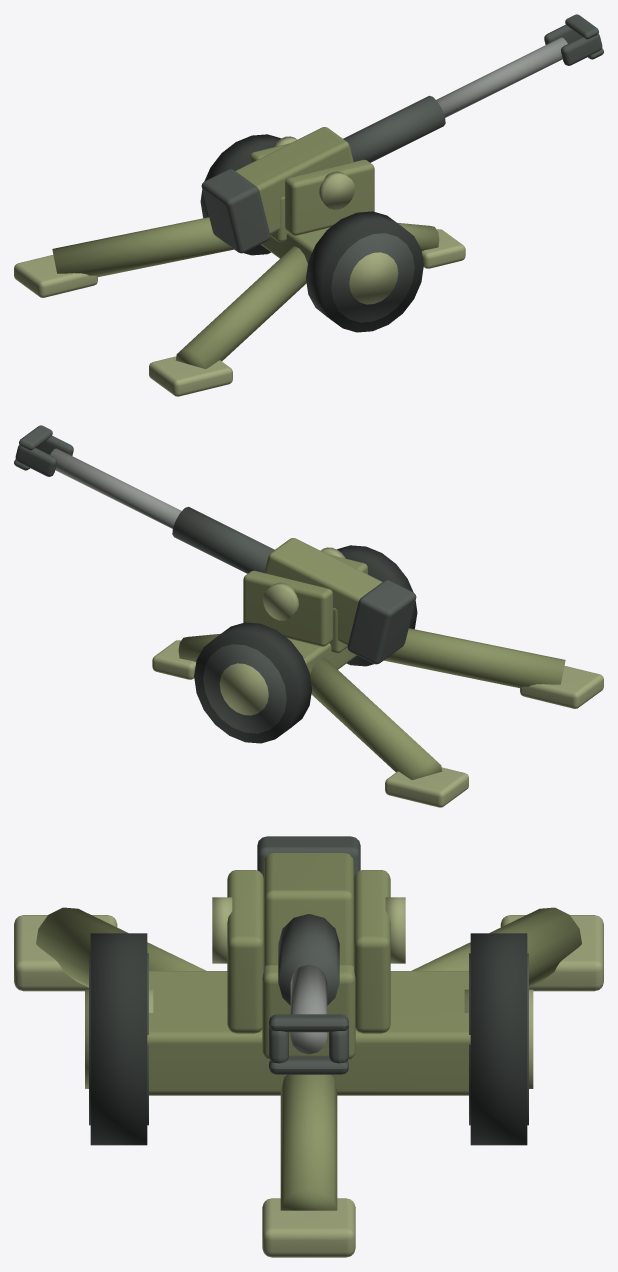
File: narrows-cannon.glb
3 renders of one model, top to bottom at view 1: azimuth 30°, elevation 25°; view 2: azimuth 150°, elevation 25°; view 3: azimuth 270°, elevation 25°, orthographic. The views are drawn at different scales.
Parts seen in each view (by area): view 1: Splayed support.001, Splayed support, Tire, Breech housing, Cradle cheek, Breech cap, Sidewall, Barrel shroud, Long barrel, Ground shoe, Ground shoe.001, Wheel hub (+6 smaller); view 2: Splayed support, Splayed support.001, Tire.001, Breech housing, Cradle cheek.001, Breech cap, Sidewall.001, Barrel shroud, Long barrel, Ground shoe.001, Ground shoe, Wheel hub.001 (+6 smaller); view 3: Axle housing, Tire, Tire.001, Front support, Breech housing, Cradle cheek, Cradle cheek.001, Front ground shoe, Splayed support, Splayed support.001, Barrel shroud, Ground shoe (+13 smaller).
Boxes of the visible parts, x1,y1,x2,y2 form: Splayed support.001: (52,217,233,276); Splayed support: (175,246,307,368); Tire: (306,211,423,332); Breech housing: (235,127,353,234); Cradle cheek: (285,159,374,235); Breech cap: (201,169,270,253); Sidewall: (331,233,414,322); Barrel shroud: (343,95,445,162); Long barrel: (436,37,567,117); Ground shoe: (149,356,232,396); Ground shoe.001: (14,255,97,297); Wheel hub: (349,252,398,304); Splayed support: (384,628,565,687); Splayed support.001: (310,657,442,779); Tire.001: (194,622,311,743); Breech housing: (264,538,382,645); Cradle cheek.001: (243,570,332,646); Breech cap: (347,580,416,664); Sidewall.001: (203,644,286,733); Barrel shroud: (172,506,274,573); Long barrel: (50,448,181,528); Ground shoe.001: (385,767,468,807); Ground shoe: (520,666,603,708); Wheel hub.001: (219,663,268,715); Axle housing: (147,971,470,1095); Tire: (90,933,147,1145); Tire.001: (470,933,527,1145); Front support: (280,1074,337,1210); Breech housing: (264,853,353,966); Cradle cheek: (227,870,263,1033); Cradle cheek.001: (354,870,390,1033); Front ground shoe: (262,1198,355,1257); Splayed support: (36,907,206,987); Splayed support.001: (411,907,581,987); Barrel shroud: (278,914,339,1005); Ground shoe: (14,915,117,991).
Bounding box in the file's own units: 3.13 × 1.19 × 1.77.
